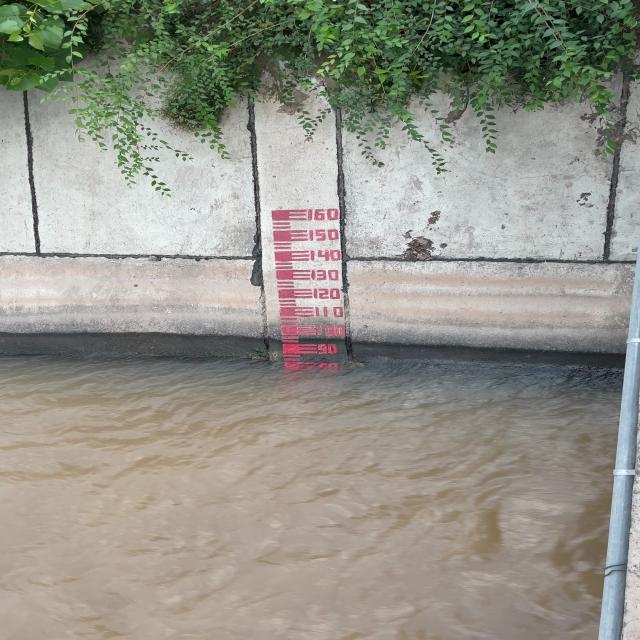ruler: (262, 202, 356, 363)
value: (304, 205, 344, 223), (307, 267, 344, 282), (314, 323, 349, 338), (306, 228, 343, 242), (308, 248, 345, 262), (310, 305, 347, 319), (309, 287, 344, 300), (314, 342, 339, 355)
